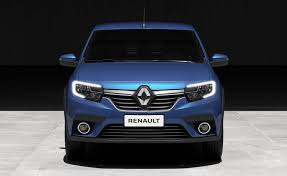Particular: (60, 20, 232, 166)
